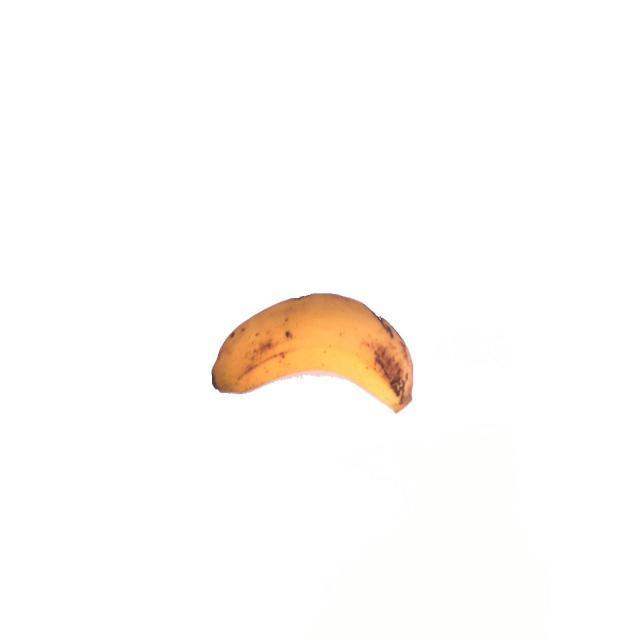Banana: (208, 289, 418, 418)
